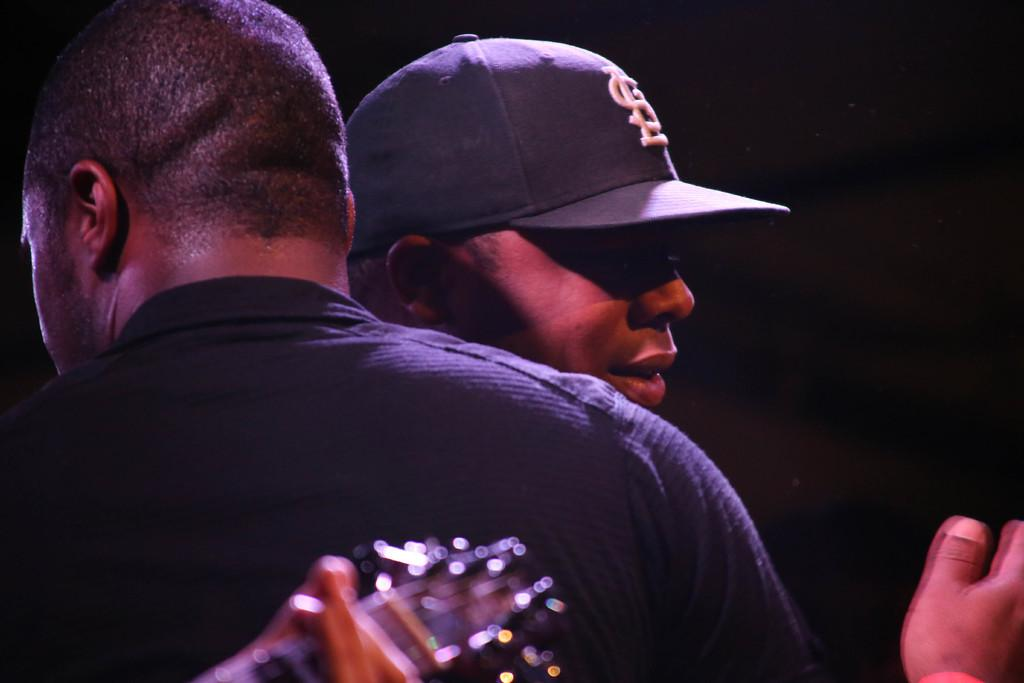Hat: (344, 31, 790, 253)
